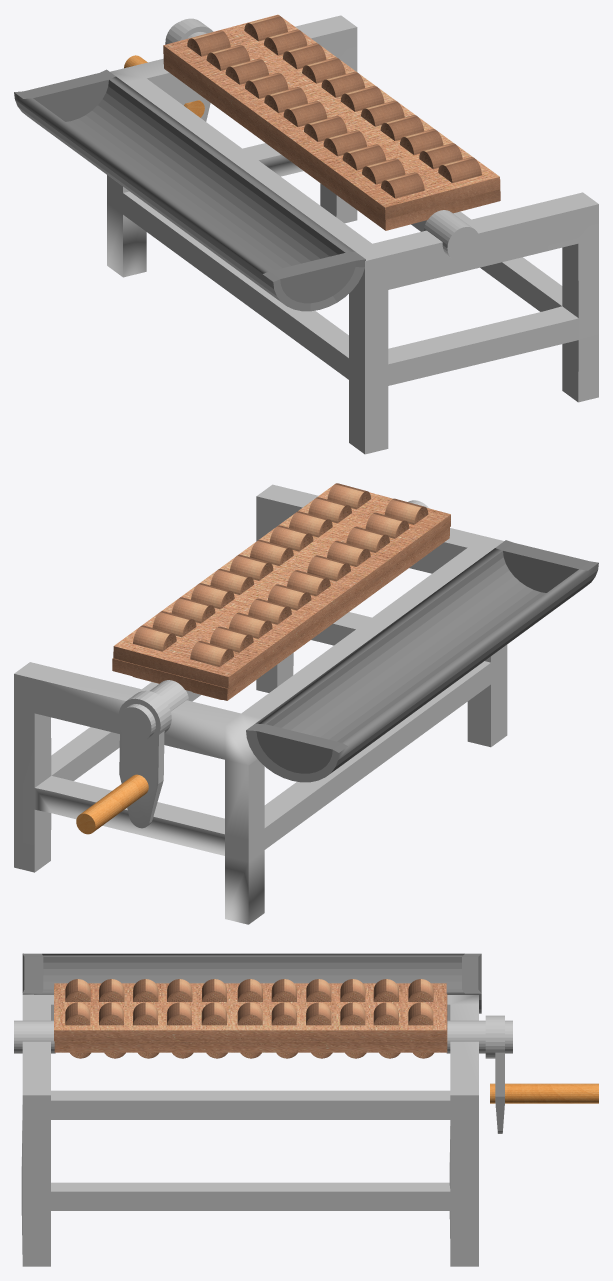
Rendered from machine.fbx.
3 views of the same model, one above another, from view 1: azimuth 30°, elevation 25°; view 2: azimuth 150°, elevation 25°; view 3: azimuth 270°, elevation 25° (orthographic). The views are drawn at different scales.
Visible parts, largest first — view 1: 円柱.021, 円柱.020, 立方体.003; view 2: 円柱.021, 円柱.020, 立方体.003; view 3: 円柱.021, 円柱.020, 立方体.003.
Boxes of the visible parts, <box> form: 円柱.021: <box>14,15,598,454</box>; 円柱.020: <box>163,14,500,219</box>; 立方体.003: <box>124,18,500,261</box>; 円柱.021: <box>14,484,598,924</box>; 円柱.020: <box>113,483,450,689</box>; 立方体.003: <box>76,500,449,834</box>; 円柱.021: <box>21,953,481,1266</box>; 円柱.020: <box>54,979,446,1041</box>; 立方体.003: <box>14,994,598,1133</box>.
Bounding box in the file's own units: 1060 × 744 × 1864.
